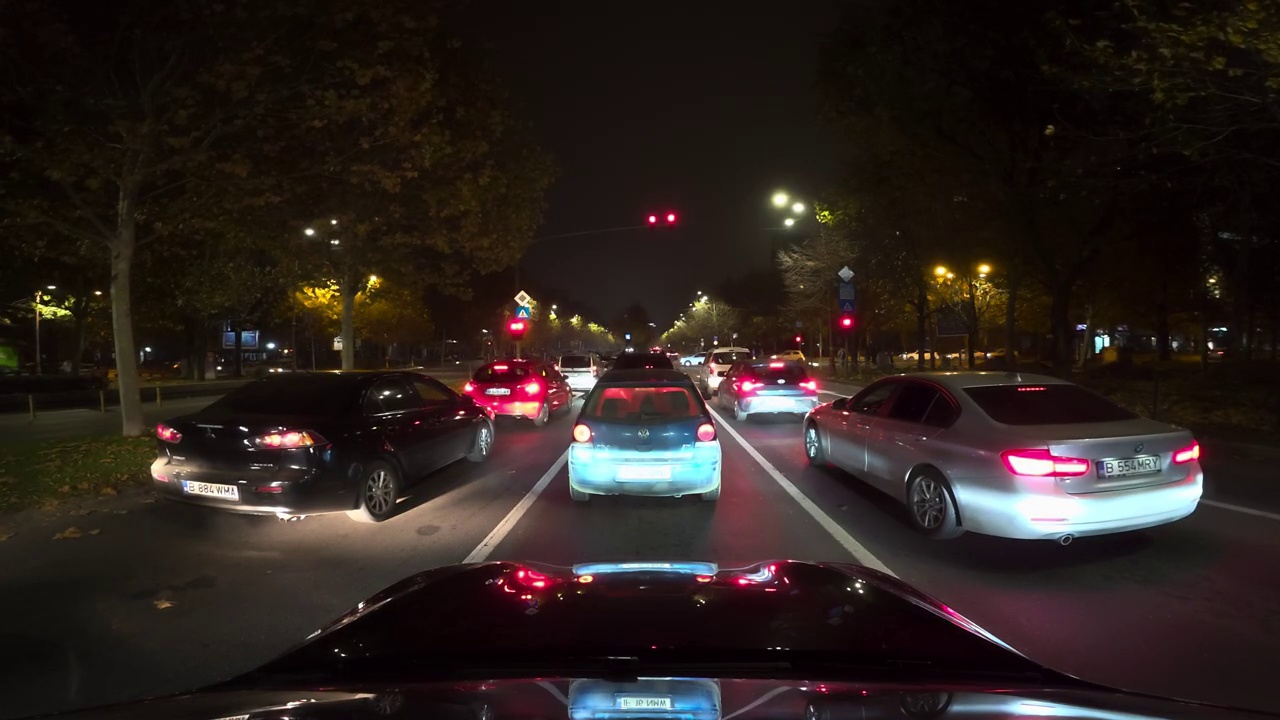acesa: (768, 187, 798, 216), (931, 262, 955, 284)
